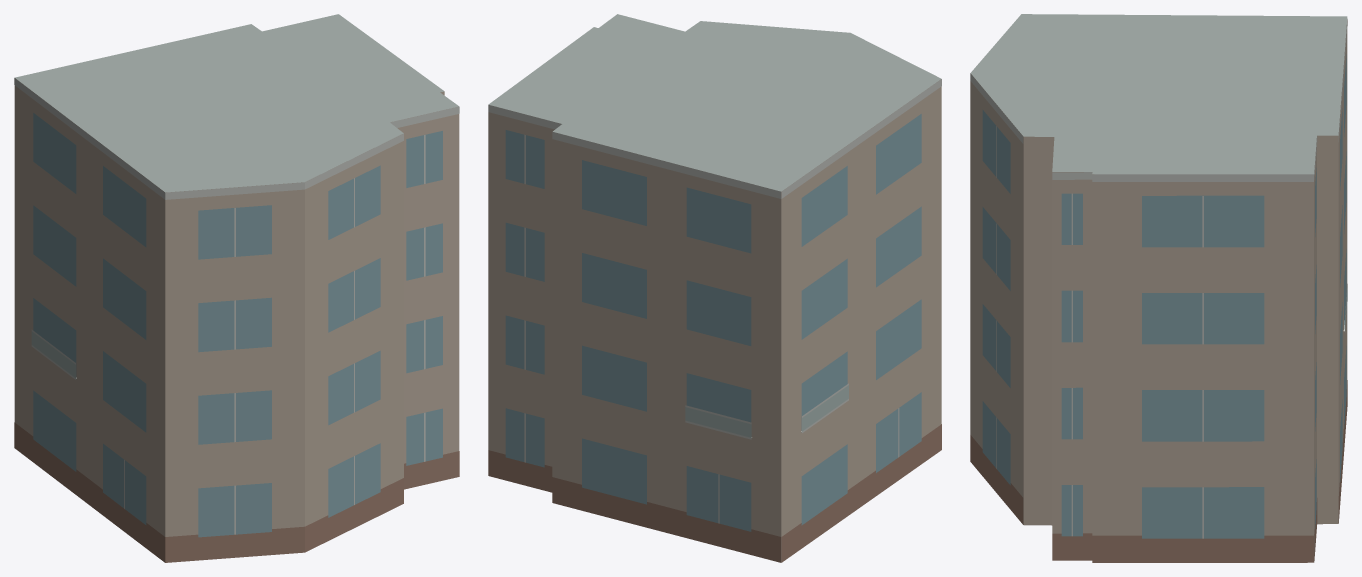
The model's file is survey-upis-32891565.glb.
The picture shows the model from 3 angles, left to right: view 1: azimuth 30°, elevation 25°; view 2: azimuth 150°, elevation 25°; view 3: azimuth 270°, elevation 25°; orthographic projection. The views are drawn at different scales.
Visible parts, largest first — view 1: survey-upis-32891565.tmp; view 2: survey-upis-32891565.tmp; view 3: survey-upis-32891565.tmp.
Boxes of the visible parts, x1=… form: survey-upis-32891565.tmp: x1=14, y1=14, x2=459, y2=562; survey-upis-32891565.tmp: x1=488, y1=14, x2=941, y2=562; survey-upis-32891565.tmp: x1=970, y1=14, x2=1347, y2=562.
Bounding box in the file's own units: 10.81 × 12.2 × 10.74.
